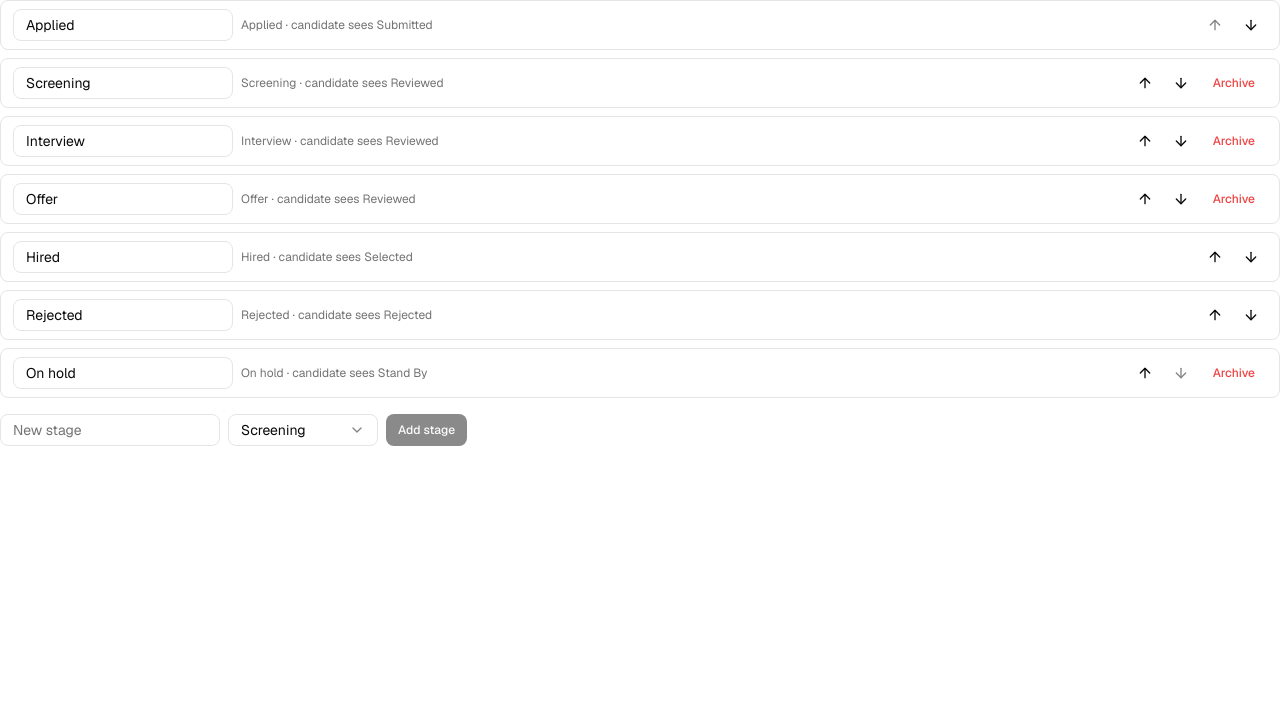
Test case: StageEditor (PLT-064) › removes an archived stage
Click the button with aria-label "Archive Interview".
click(1234, 141)  # box [1201, 125, 1267, 157]
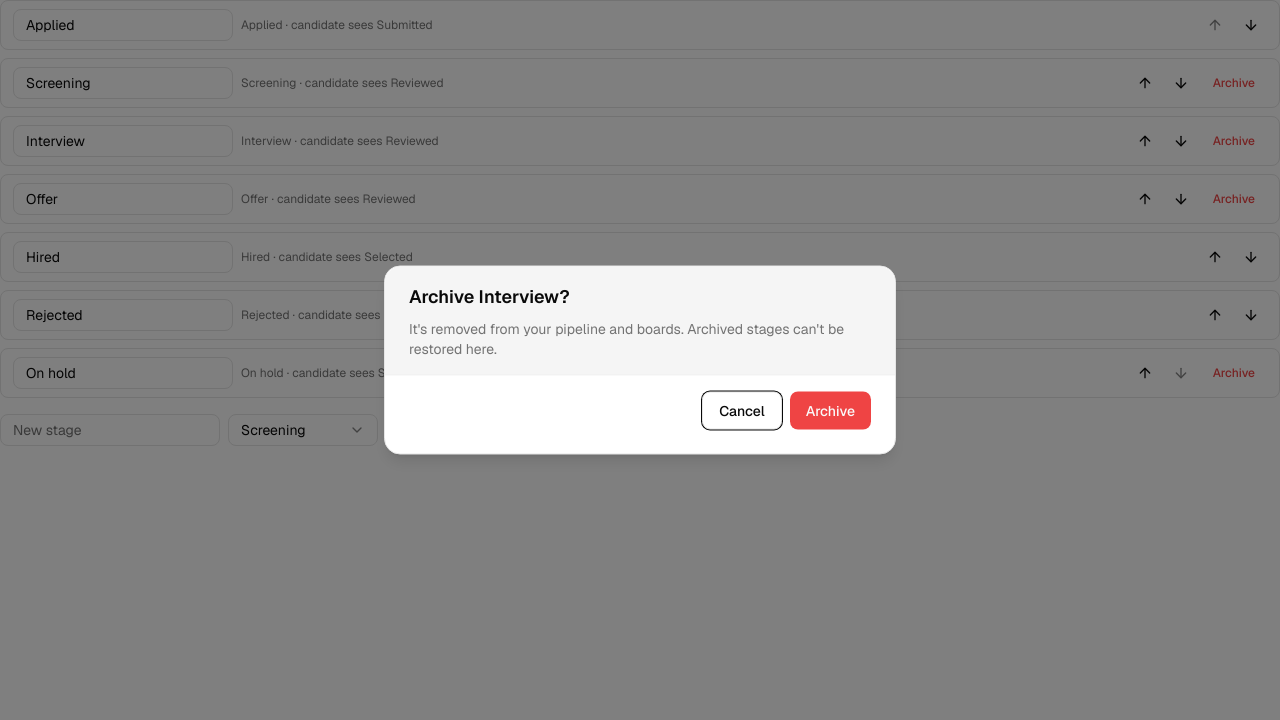
Click the button "Archive".
click(830, 410)  # box [790, 392, 871, 430]
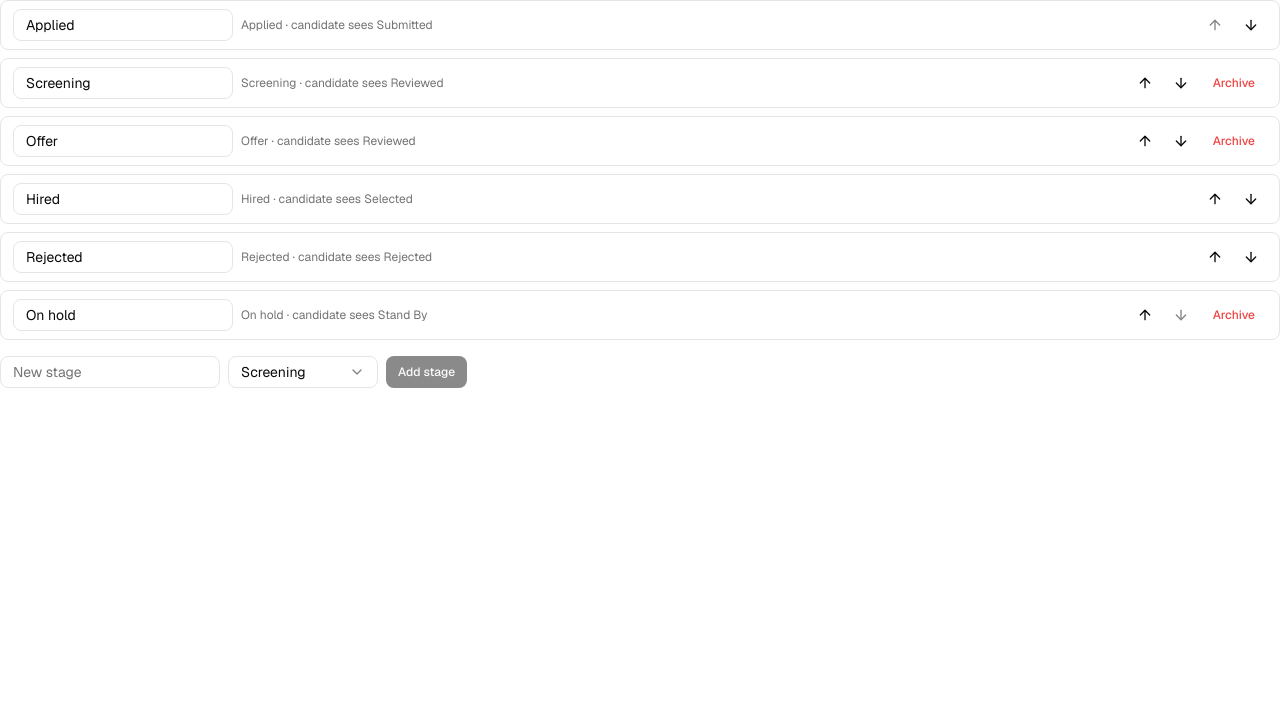
Check: the field showing "Interview" is gone
